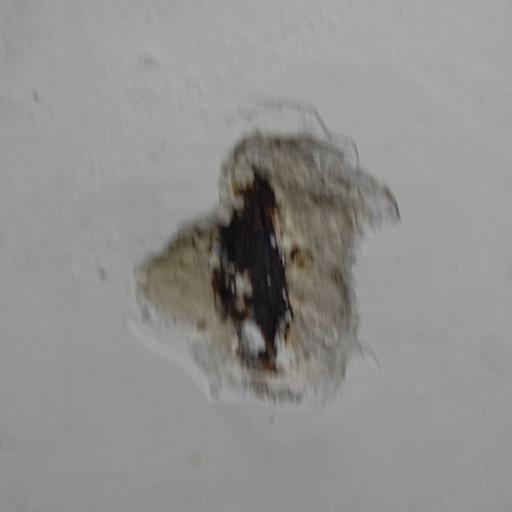spalling: (105, 85, 419, 424)
